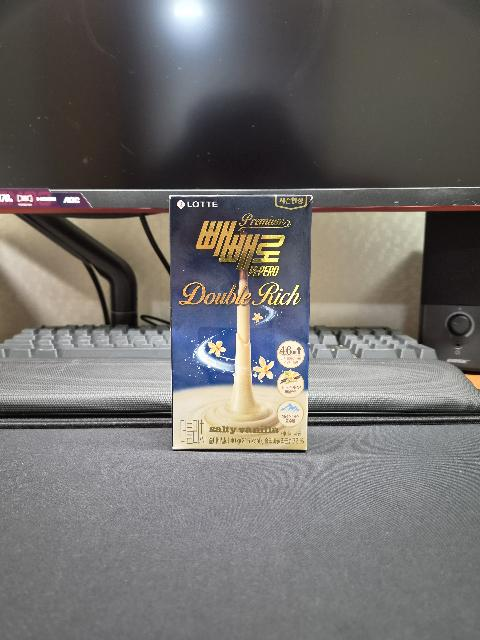pepero: (169, 195, 313, 450)
